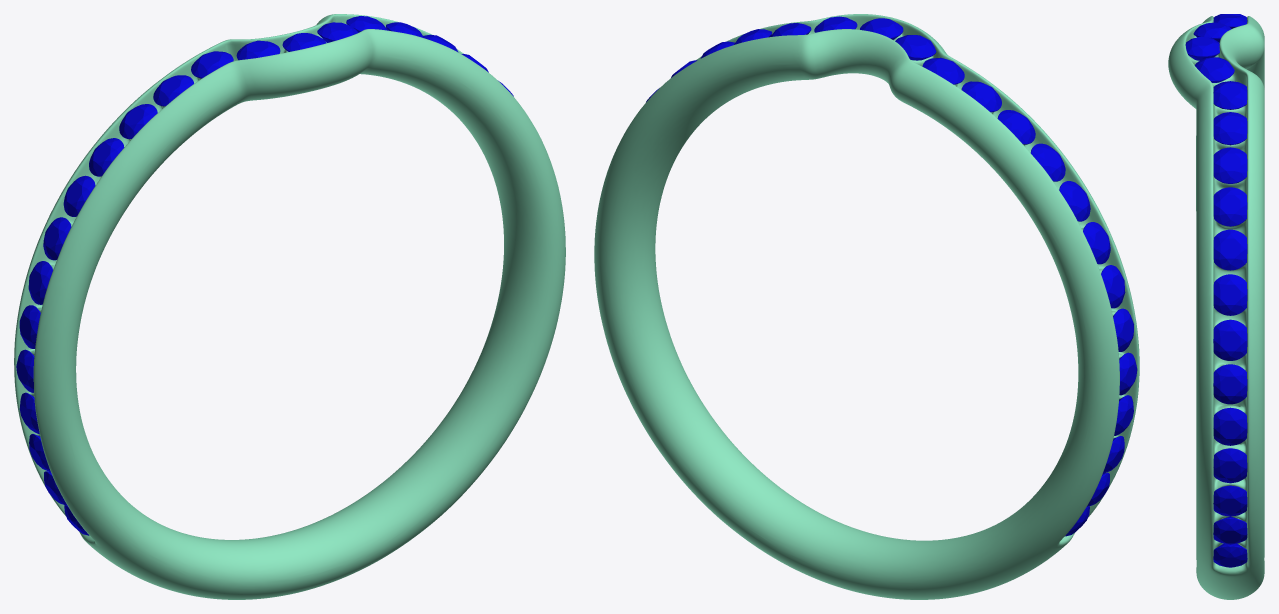
The picture shows the model from 3 angles, left to right: view 1: azimuth 30°, elevation 25°; view 2: azimuth 150°, elevation 25°; view 3: azimuth 270°, elevation 25°; orthographic projection. The views are drawn at different scales.
Visible parts, largest first — view 1: Metal03, Diamond_Band.023, Diamond_Band.024, Diamond_Band.025, Diamond_Band.022, Diamond_Band.026, Diamond_Band.021, Diamond_Band.027; view 2: Metal03, Diamond_Band.024, Diamond_Band.023, Diamond_Band.022, Diamond_Band.025, Diamond_Band.026, Diamond_Band.028, Diamond_Band.021; view 3: Metal03, Diamond_Band.007, Diamond_Band.008, Diamond_Band.006, Diamond_Band.009, Diamond_Band.005, Diamond_Band.010, Diamond_Band.004, Diamond_Band.011, Diamond_Band.003, Diamond_Band.012, Diamond_Band.002 (+6 smaller).
Boxes of the visible parts, x1,y1,x2,y2 form: Metal03: (14, 14, 565, 599); Diamond_Band.023: (63, 175, 95, 216); Diamond_Band.024: (89, 138, 124, 176); Diamond_Band.025: (119, 104, 157, 139); Diamond_Band.022: (43, 217, 71, 260); Diamond_Band.026: (153, 75, 193, 106); Diamond_Band.021: (28, 261, 52, 304); Diamond_Band.027: (191, 51, 233, 78); Metal03: (594, 14, 1139, 599); Diamond_Band.024: (1030, 143, 1065, 181); Diamond_Band.023: (1059, 181, 1090, 221); Diamond_Band.022: (1083, 222, 1110, 264); Diamond_Band.025: (997, 110, 1035, 144); Diamond_Band.026: (961, 81, 1001, 112); Diamond_Band.028: (895, 35, 936, 60); Diamond_Band.021: (1101, 265, 1125, 308); Metal03: (1168, 16, 1264, 599); Diamond_Band.007: (1213, 274, 1247, 315); Diamond_Band.008: (1213, 319, 1247, 360); Diamond_Band.006: (1213, 229, 1247, 270); Diamond_Band.009: (1213, 364, 1247, 404); Diamond_Band.005: (1213, 187, 1247, 226); Diamond_Band.010: (1213, 407, 1247, 445); Diamond_Band.004: (1213, 147, 1247, 183); Diamond_Band.011: (1213, 448, 1247, 483); Diamond_Band.003: (1213, 112, 1247, 145); Diamond_Band.012: (1213, 485, 1247, 516); Diamond_Band.002: (1213, 81, 1247, 109).
Bounding box in the file's own units: 21.09 × 21.18 × 3.49.
